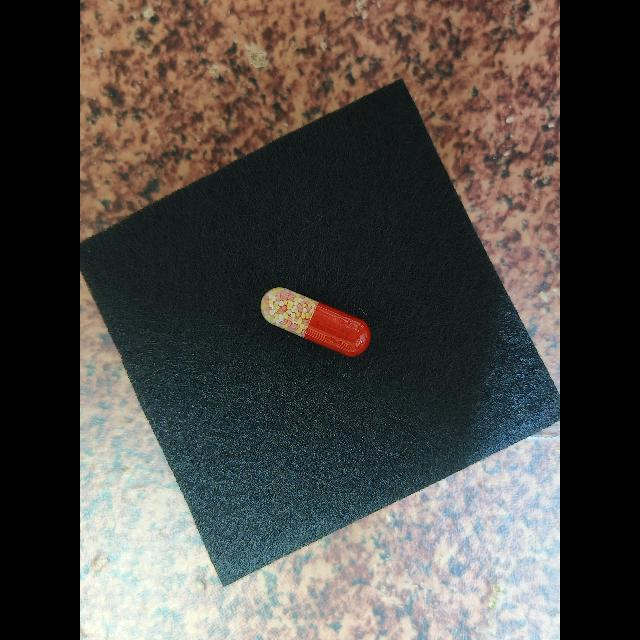Intact Capsule: (261, 287, 371, 357)
